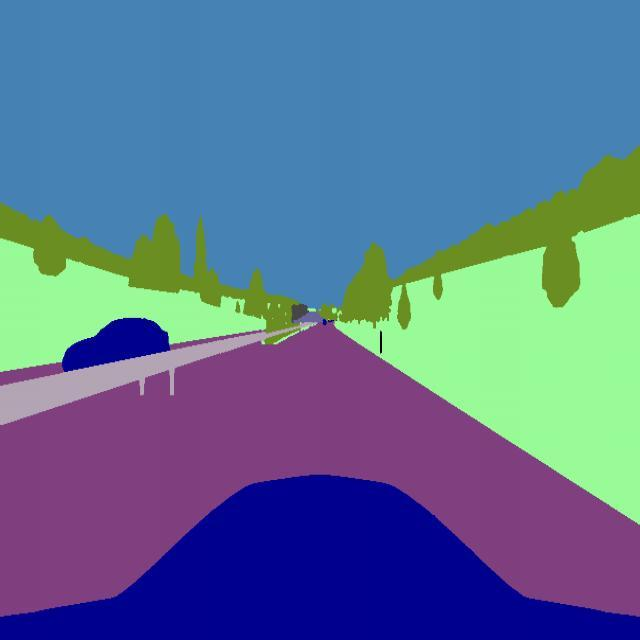safe: (59, 315, 173, 372)
